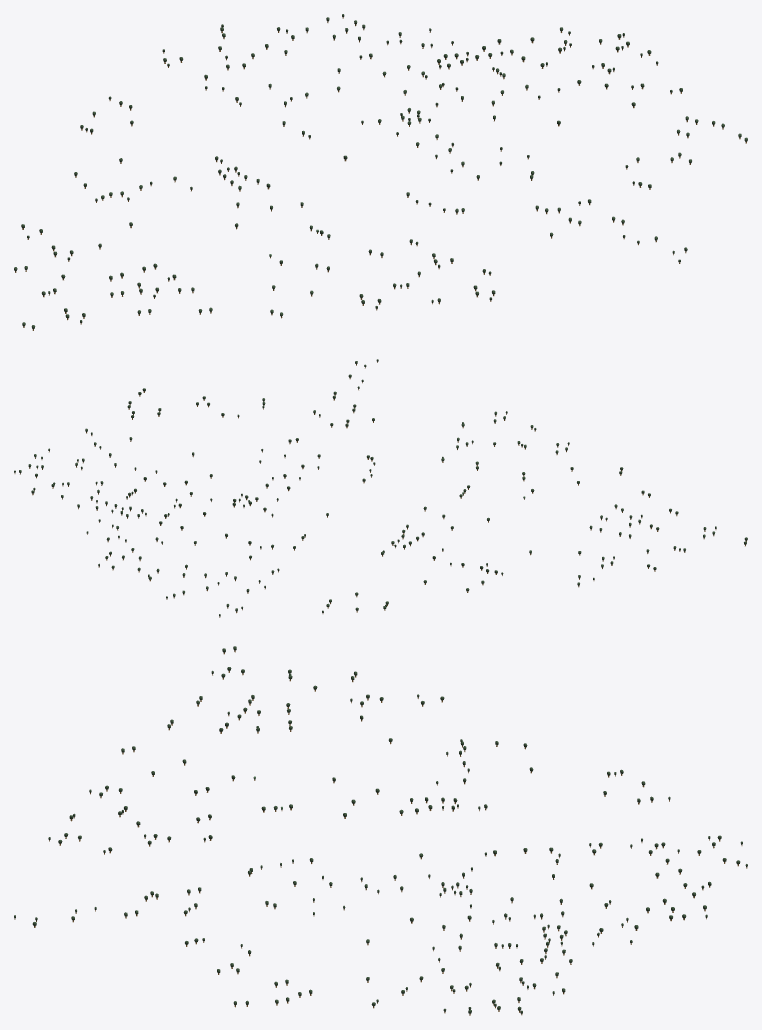
File: TreesOneMesh.fbx
3 views of the same model, one above another, from view 1: azimuth 30°, elevation 25°; view 2: azimuth 150°, elevation 25°; view 3: azimuth 270°, elevation 25° (orthographic). The views are drawn at different scales.
Parts seen in each view (by area): view 1: Trees; view 2: Trees; view 3: Trees.
Part boxes in pixels (x1,y1,x2,y2): Trees: (14,14,747,330); Trees: (14,359,747,617); Trees: (14,646,747,1015).
Bounding box in the file's own units: 14173 × 256 × 11776.
